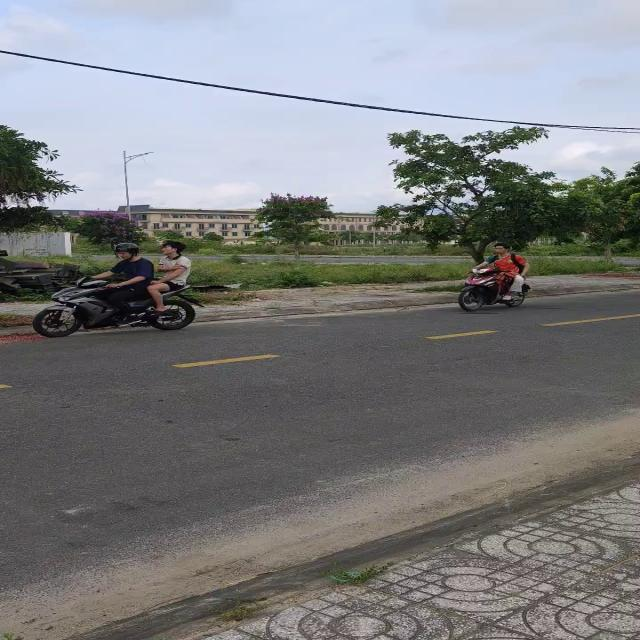helmet: (114, 242, 139, 255)
no_helmet: (164, 241, 186, 253)
